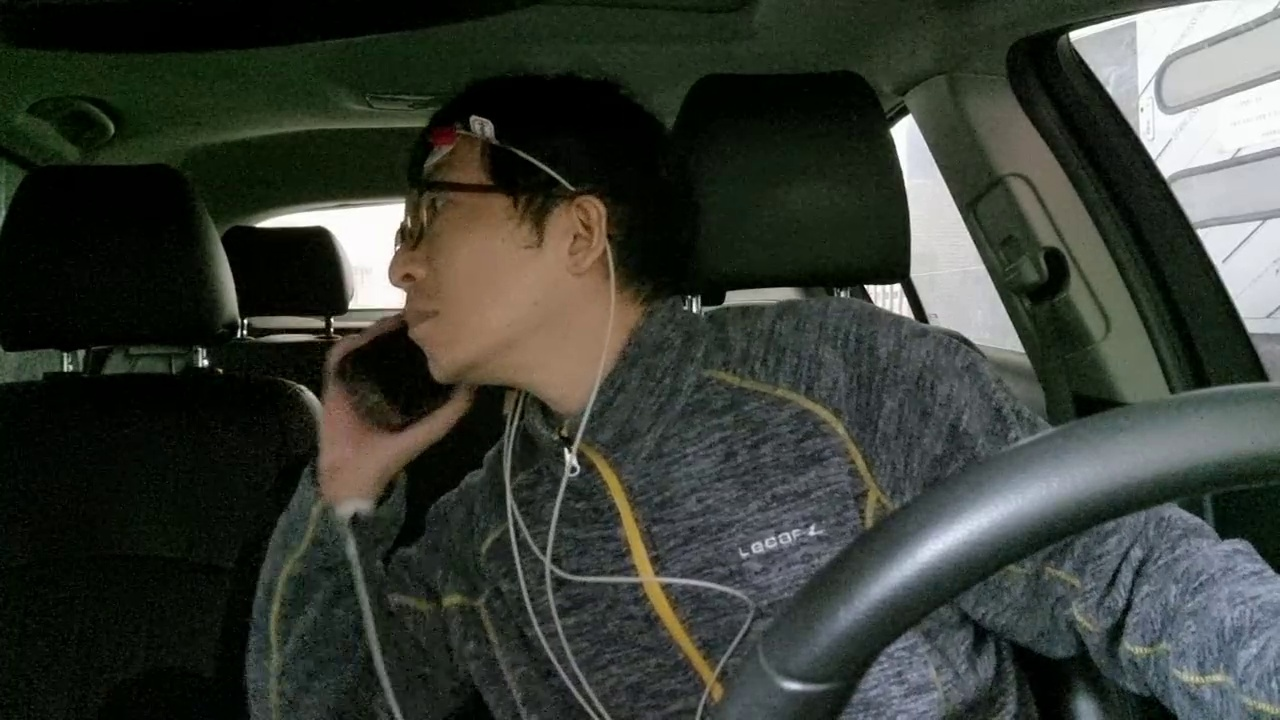phone: (313, 280, 482, 480)
